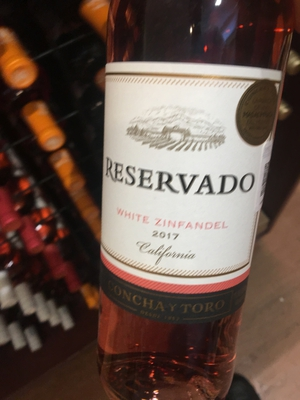reservado white zinfandel: (92, 3, 296, 400)
